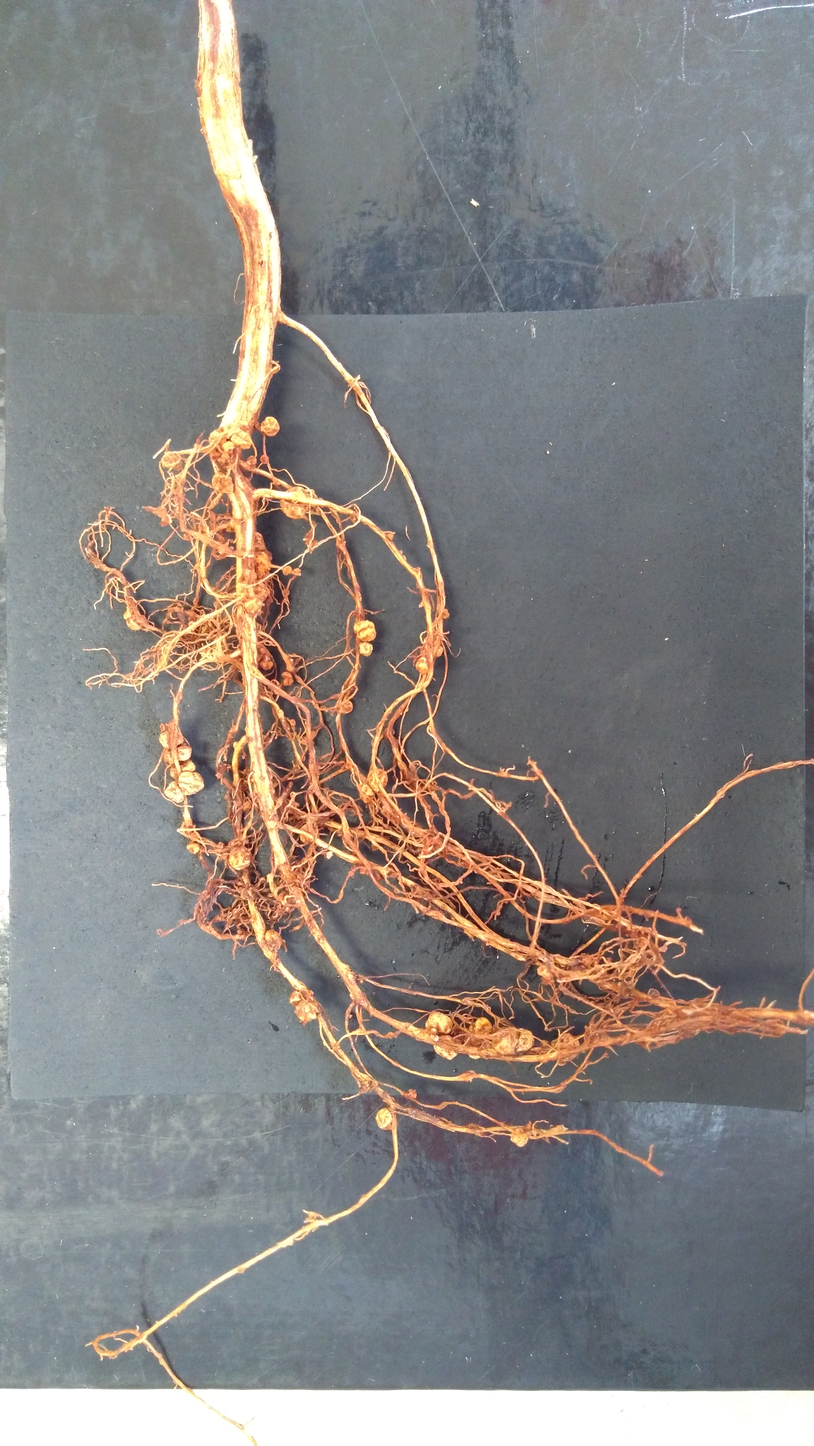nodule: (492, 1026, 534, 1055), (280, 486, 310, 519), (551, 1033, 580, 1066), (289, 990, 318, 1022), (357, 861, 399, 881), (433, 1035, 461, 1060), (425, 1011, 453, 1034), (464, 1024, 482, 1059), (158, 724, 184, 748), (179, 771, 204, 795), (228, 846, 252, 870), (227, 427, 252, 449), (353, 620, 376, 642), (255, 550, 272, 579), (367, 769, 388, 792), (212, 472, 233, 494), (241, 557, 258, 584), (164, 781, 184, 803), (160, 451, 182, 471), (341, 828, 359, 852), (260, 416, 280, 437), (265, 929, 282, 953), (208, 426, 227, 447), (357, 782, 375, 804), (375, 1108, 393, 1129), (254, 579, 270, 602), (474, 1017, 492, 1037), (176, 738, 192, 760), (510, 1128, 528, 1147), (277, 863, 295, 882), (235, 582, 255, 599), (243, 598, 264, 614), (300, 824, 316, 843), (569, 958, 589, 972), (537, 964, 553, 980), (254, 531, 266, 551), (125, 618, 143, 631), (415, 657, 428, 674), (163, 746, 175, 764), (359, 642, 373, 657), (260, 657, 274, 671), (180, 759, 196, 771), (152, 506, 167, 518), (222, 441, 235, 454), (282, 672, 294, 686), (341, 700, 353, 714), (647, 987, 660, 999), (186, 843, 200, 854), (170, 765, 180, 780), (581, 957, 596, 967), (187, 612, 196, 627), (225, 519, 235, 532), (255, 621, 262, 639), (434, 646, 443, 658), (247, 455, 257, 465), (242, 801, 252, 811), (441, 608, 449, 620), (260, 454, 269, 464), (283, 566, 292, 576), (408, 1089, 417, 1099), (216, 841, 226, 849), (282, 588, 290, 597), (217, 457, 225, 465), (293, 568, 301, 576), (386, 532, 394, 540), (221, 452, 230, 459), (124, 610, 131, 619), (272, 479, 281, 486), (296, 872, 303, 881), (371, 844, 379, 851), (215, 772, 223, 779), (236, 928, 243, 935), (348, 870, 355, 877), (183, 533, 189, 541), (412, 567, 421, 572), (290, 719, 296, 726), (223, 793, 229, 800), (233, 740, 238, 748), (217, 515, 222, 520), (402, 555, 406, 561), (241, 754, 245, 760), (229, 546, 234, 550), (399, 550, 402, 554), (225, 502, 228, 506)
